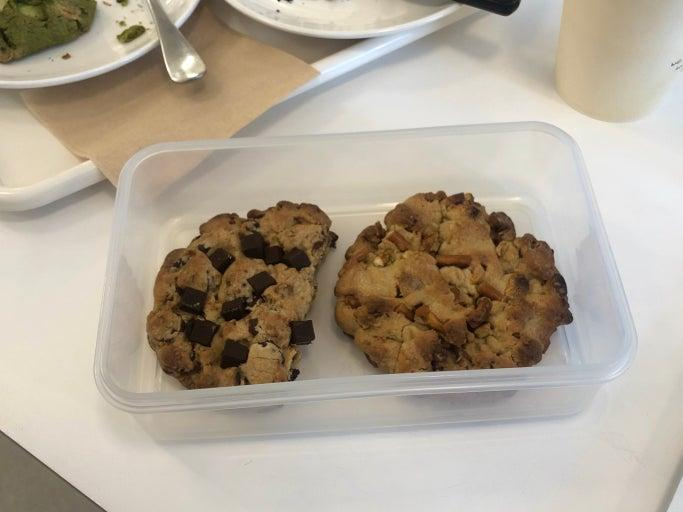Bottle: (555, 0, 682, 121)
Lunch Box: (95, 123, 635, 438), (0, 0, 482, 211)
